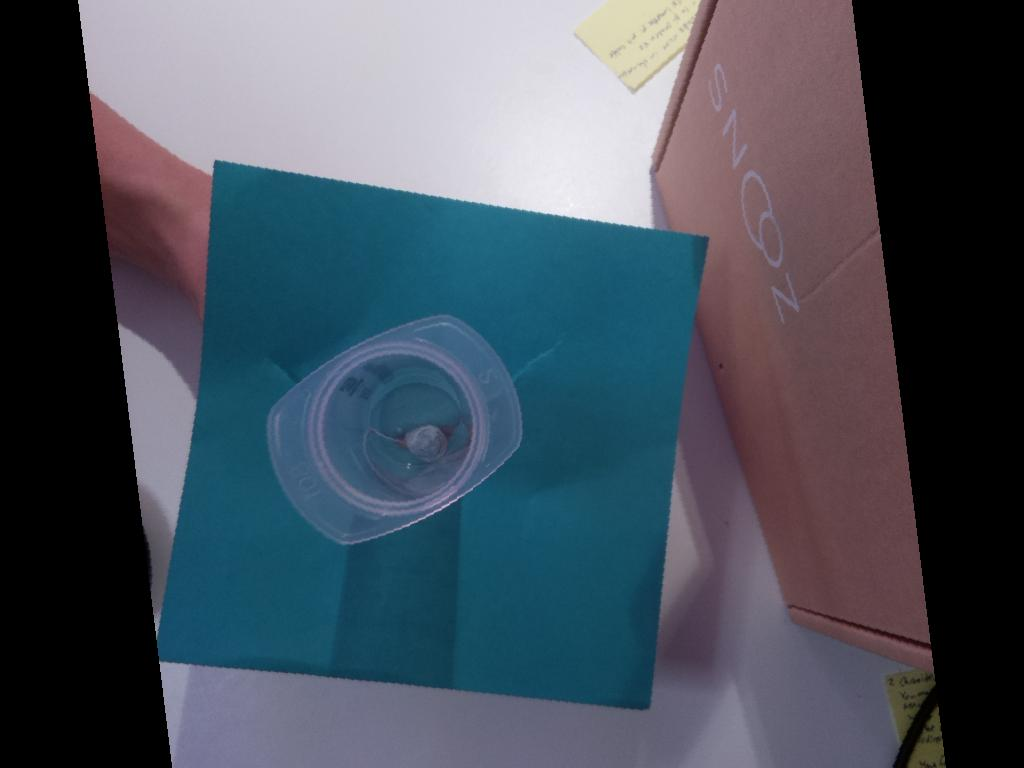clean: (265, 312, 525, 544)
